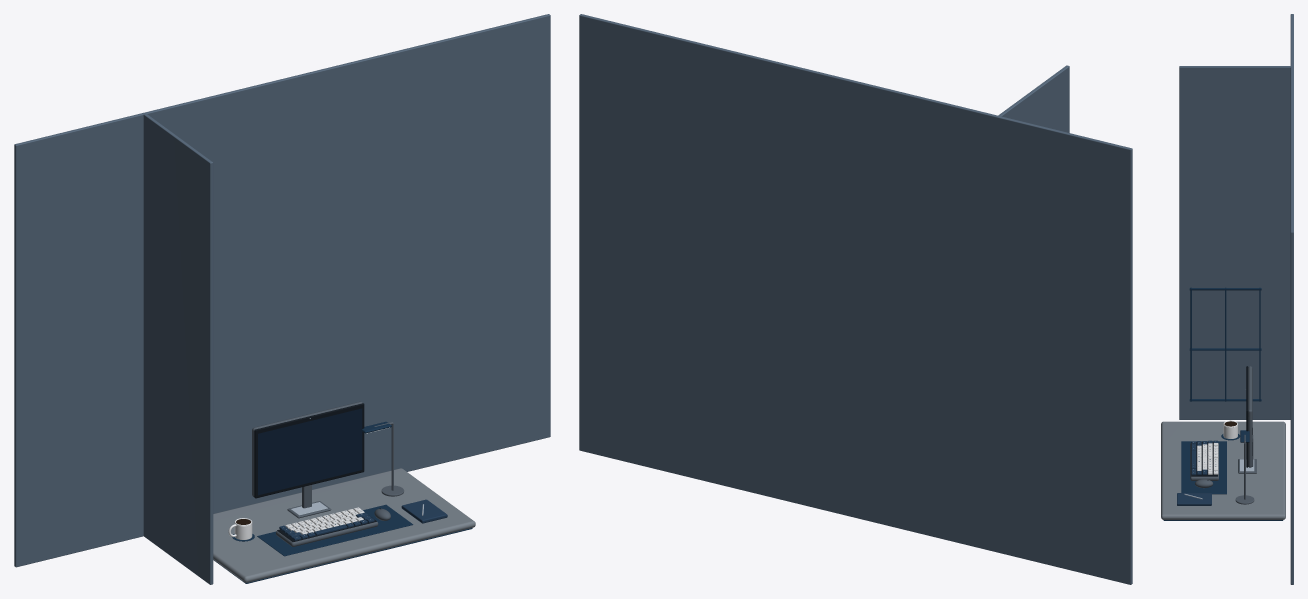
Rendered from morning-desk.glb.
The picture shows the model from 3 angles, left to right: view 1: azimuth 30°, elevation 25°; view 2: azimuth 150°, elevation 25°; view 3: azimuth 270°, elevation 25°; orthographic projection. The views are drawn at different scales.
Parts seen in each view (by area): view 1: Back wall, Window side wall, Desk surface, MonitorPixels, Woven desk mat, Monitor frame; view 2: Back wall, Window side wall; view 3: Window side wall, Desk surface, Back wall, Woven desk mat, Monitor rear shell, Notebook, Keyboard recessed plate, Keyboard aluminium chassis, Window vertical frame.002, Window vertical frame, Window vertical frame.001, Window horizontal frame.001 (+2 smaller).
Boxes of the visible parts, left/top/right/bottom form: Back wall: left=14, top=14, right=550, bottom=567; Window side wall: left=143, top=113, right=213, bottom=584; Desk surface: left=213, top=468, right=475, bottom=582; MonitorPixels: left=258, top=408, right=362, bottom=495; Woven desk mat: left=257, top=504, right=413, bottom=556; Monitor frame: left=254, top=403, right=364, bottom=498; Back wall: left=579, top=14, right=1132, bottom=584; Window side wall: left=998, top=65, right=1069, bottom=132; Window side wall: left=1179, top=66, right=1292, bottom=419; Desk surface: left=1161, top=421, right=1285, bottom=519; Back wall: left=1290, top=14, right=1293, bottom=584; Woven desk mat: left=1181, top=441, right=1226, bottom=494; Monitor rear shell: left=1248, top=366, right=1252, bottom=467; Notebook: left=1177, top=493, right=1211, bottom=505; Keyboard recessed plate: left=1191, top=442, right=1217, bottom=476; Keyboard aluminium chassis: left=1190, top=443, right=1218, bottom=480; Window vertical frame.002: left=1259, top=287, right=1260, bottom=401; Window vertical frame: left=1190, top=287, right=1191, bottom=401; Window vertical frame.001: left=1225, top=287, right=1226, bottom=401; Window horizontal frame.001: left=1189, top=348, right=1261, bottom=350.
Bounding box in the file's own units: 24 × 18.1 × 6.18.
